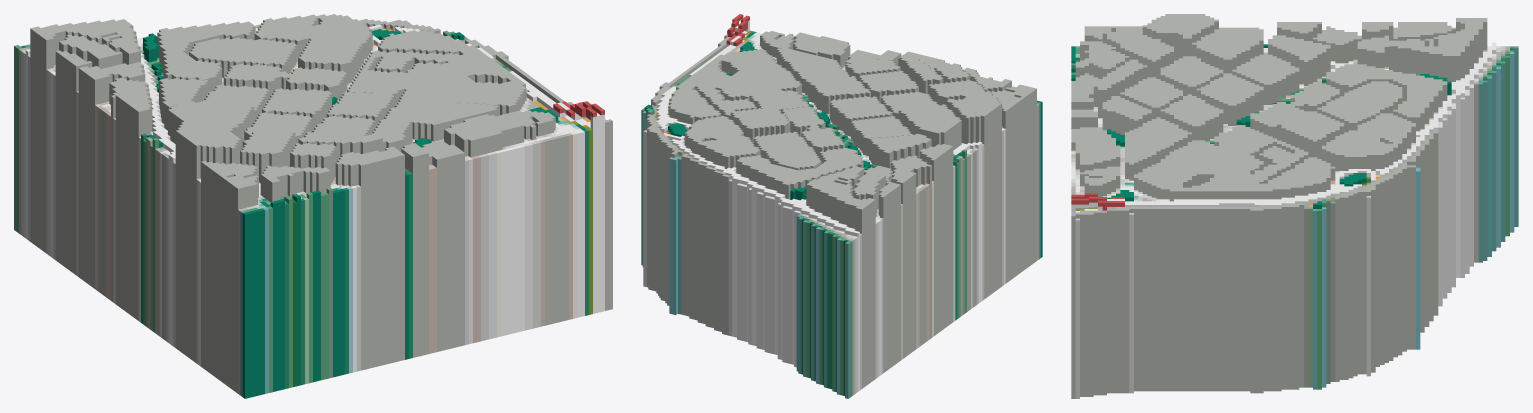
Rendered from 200610 magicvoxel1-10.obj.
The picture shows the model from 3 angles, left to right: view 1: azimuth 30°, elevation 25°; view 2: azimuth 150°, elevation 25°; view 3: azimuth 270°, elevation 25°; orthographic projection. The views are drawn at different scales.
Size of the model in its own units: 9.2 by 5.2 by 10.
Materials: 1 (1 with a texture image).
